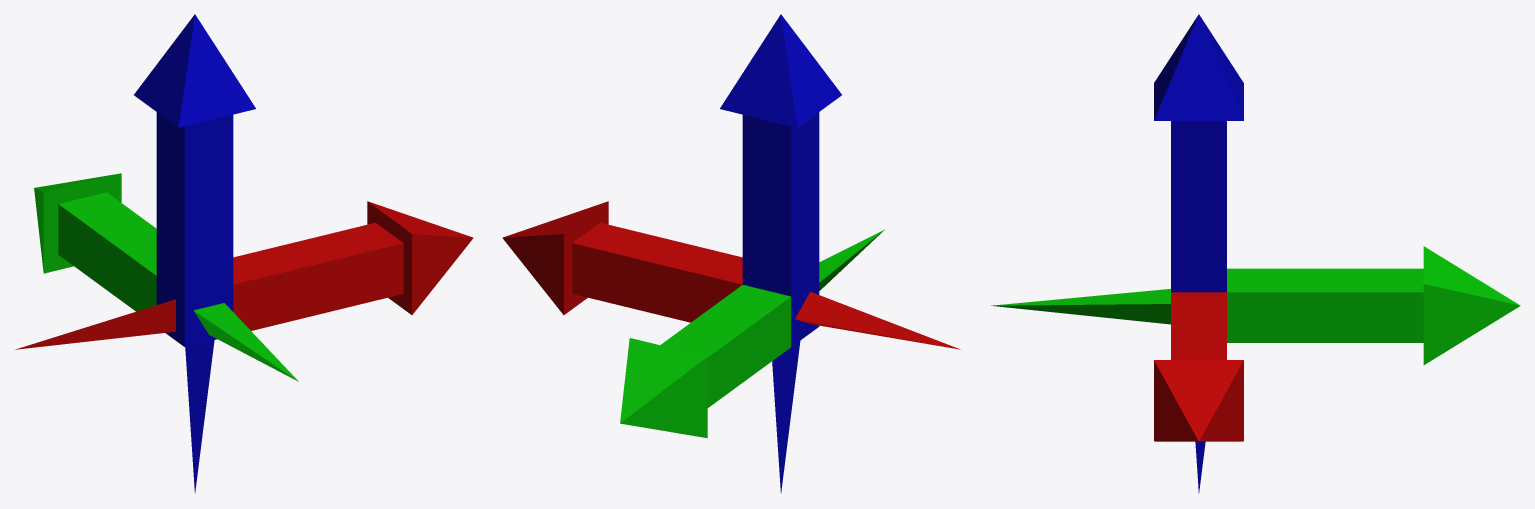
Rendered from compass_blender.dae.
The picture shows the model from 3 angles, left to right: view 1: azimuth 30°, elevation 25°; view 2: azimuth 150°, elevation 25°; view 3: azimuth 270°, elevation 25°; orthographic projection.
Parts seen in each view (by area): view 1: BlenderCompass; view 2: BlenderCompass; view 3: BlenderCompass.
Part boxes in pixels (box(x1,y1,x2,y2)): BlenderCompass: box(15, 14, 473, 493); BlenderCompass: box(502, 14, 960, 493); BlenderCompass: box(991, 14, 1520, 493).
Bounding box in the file's own units: 4.74 × 4.74 × 4.74.
